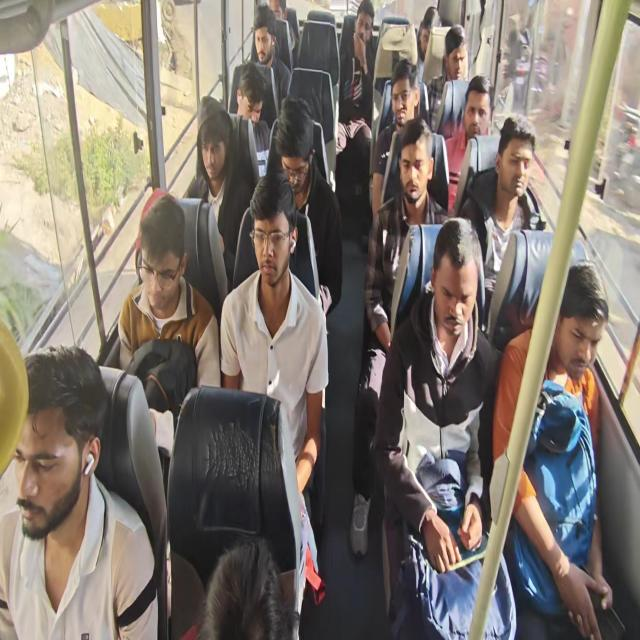person: (0, 338, 109, 533), (210, 539, 290, 640), (550, 290, 606, 382), (436, 228, 477, 337), (138, 202, 178, 306), (253, 182, 292, 282), (496, 125, 535, 208), (274, 110, 310, 180), (463, 79, 497, 144), (199, 100, 227, 174), (402, 130, 431, 201), (444, 19, 470, 87), (390, 70, 417, 123), (239, 79, 266, 129), (415, 9, 439, 57), (252, 16, 274, 68), (352, 15, 373, 52), (262, 0, 290, 26)
